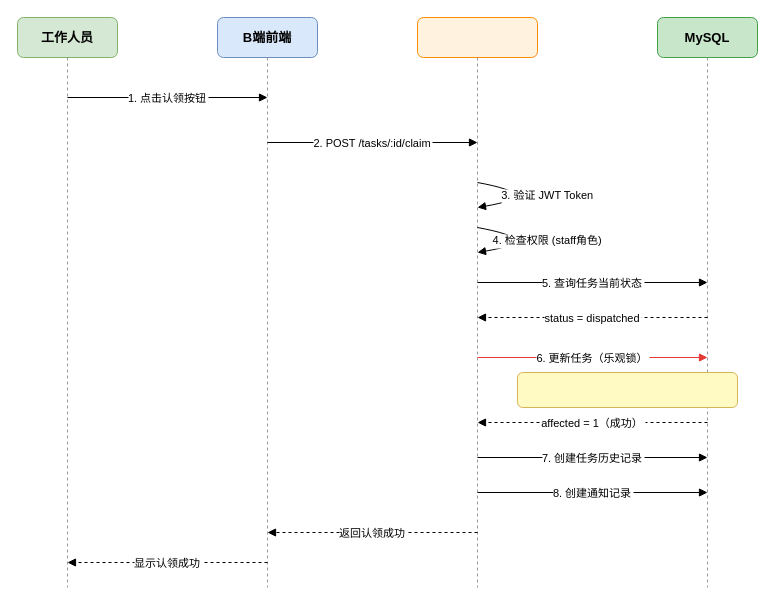
Image size: 775x606. Some labels were removed from this diagram. The shapes that lost their labels are listed below. From the top down, each one's box as (x1, y1, x2, y2) in pixels, then its label:
(416, 16, 538, 58): 后端服务
(516, 372, 738, 408): WHERE id=? AND status='dispatched' 防止并发冲突
